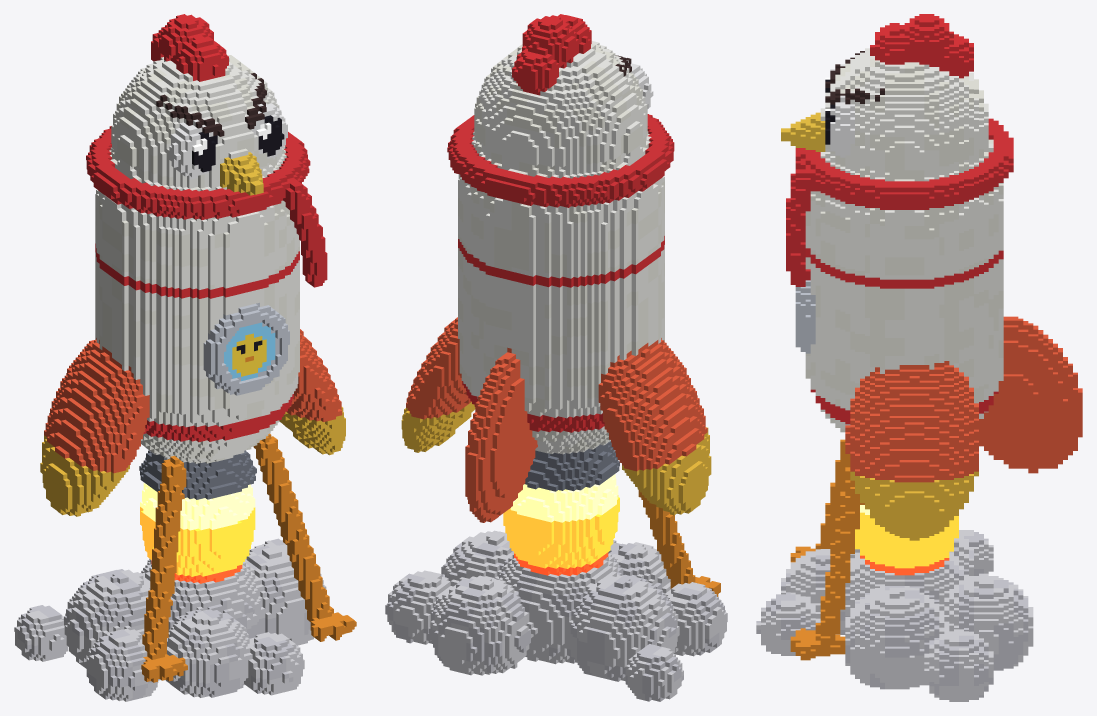
The model's file is razzo_gallinaccio.glb.
The picture shows the model from 3 angles, left to right: view 1: azimuth 30°, elevation 25°; view 2: azimuth 150°, elevation 25°; view 3: azimuth 270°, elevation 25°; orthographic projection.
Visible parts, largest first — view 1: SM_Brainrot_razzo_gallinaccio; view 2: SM_Brainrot_razzo_gallinaccio; view 3: SM_Brainrot_razzo_gallinaccio.
Boxes of the visible parts, <box> form: SM_Brainrot_razzo_gallinaccio: <box>14,14,356,701</box>; SM_Brainrot_razzo_gallinaccio: <box>385,14,727,701</box>; SM_Brainrot_razzo_gallinaccio: <box>756,14,1082,701</box>.
Size of the model in its own units: 3.96 by 8.28 by 3.96.
1 material, 1 textured.
